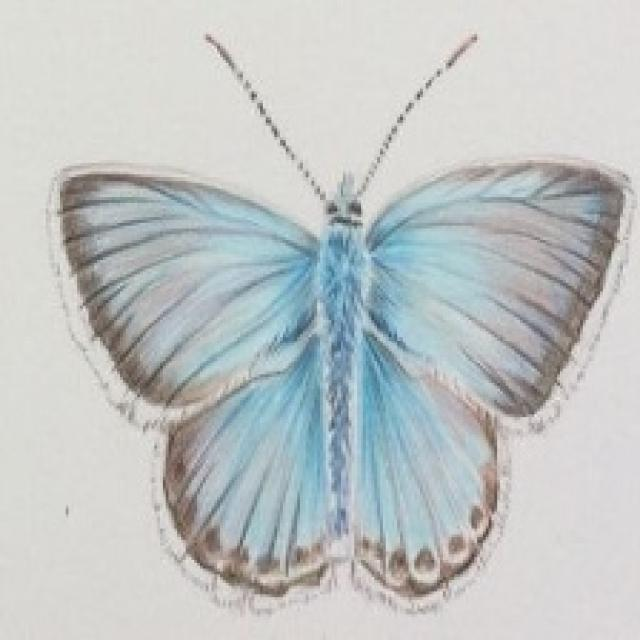butterfly: (46, 26, 634, 606)
